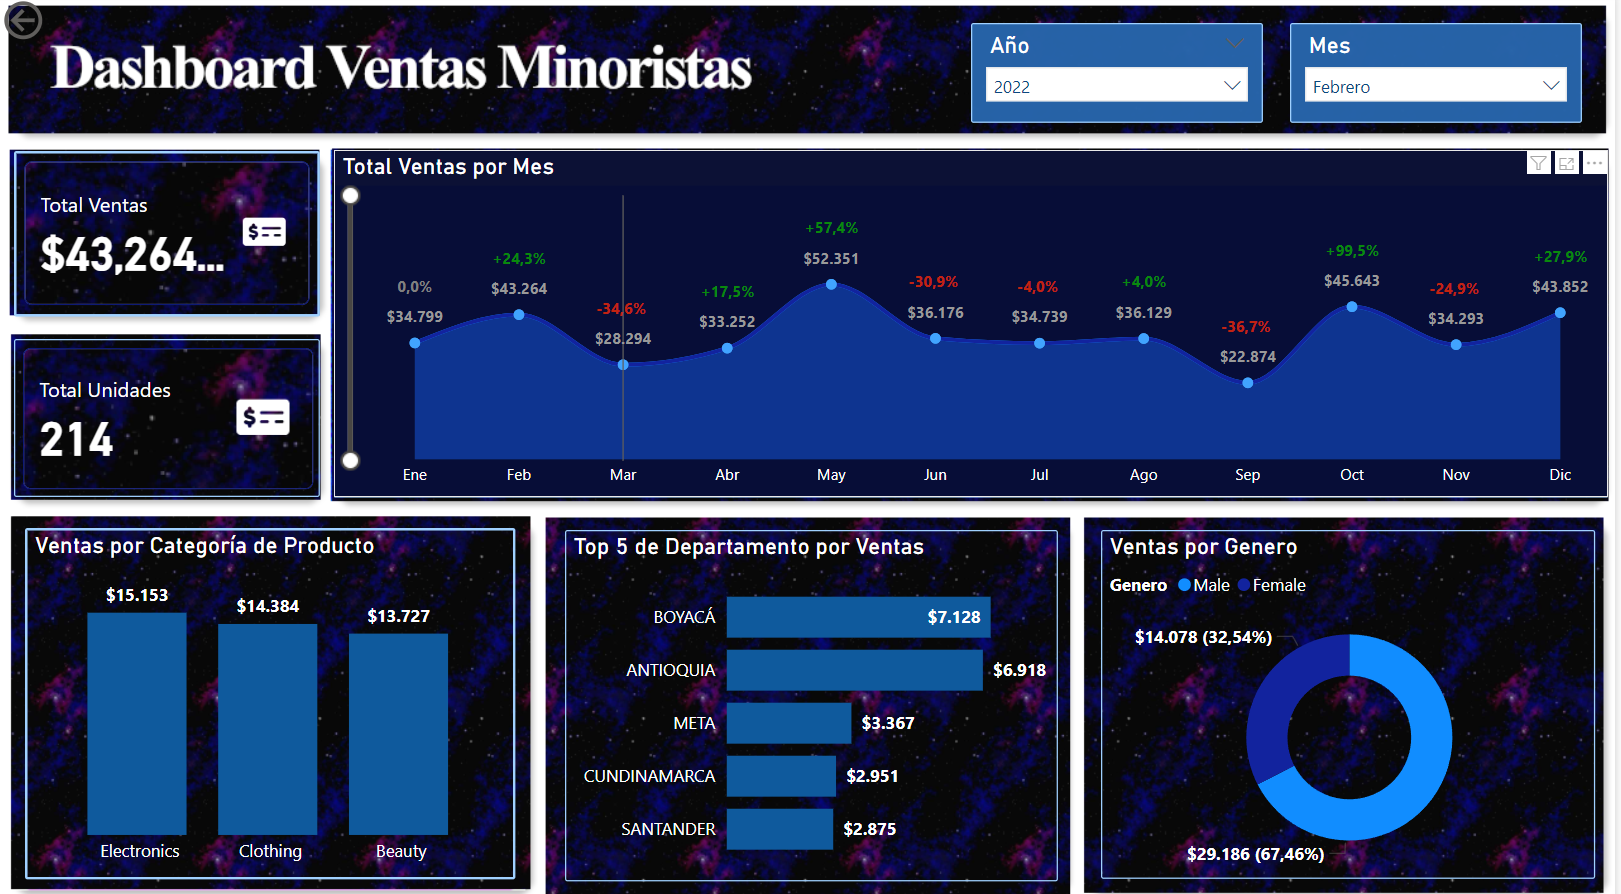

The page's visual inventory and layout, read from the dashboard file:
{"tool":"powerbi","page":{"name":"Página 1","canvas":[1280,720],"ordinal":0},"visuals":[{"type":"cardVisual","fields":{"Data":["Medidas.Total Ventas"]},"box":[12.3,123.1,242.3,130.8],"z":0},{"type":"clusteredBarChart","title":"Top 5 de Departamento por Ventas","fields":{"Category":["Clientes.Departamento"],"Y":["Medidas.Total Ventas"]},"box":[448.2,423.3,389.7,277.7],"z":1000},{"type":"cardVisual","fields":{"Data":["Medidas.Total Unidades"]},"box":[12.3,272.3,242.3,124.6],"z":2000},{"type":"slicer","fields":{"Values":["Calendario.Nombre del mes"]},"box":[1022.5,22.5,231.2,78.8],"z":3000},{"type":"areaChart","title":"Total Ventas por Mes","fields":{"Category":["Calendario.Mes Abreviado"],"Y":["Medidas.Total Ventas","Medidas.Total Ventas Rotulo"]},"box":[265.5,122.7,1008.2,274.5],"z":4000},{"type":"clusteredColumnChart","title":"Ventas por Categoría de Producto","fields":{"Category":["Ventas_Minoristas.Categoria Producto"],"Y":["Medidas.Total Ventas"]},"box":[21.2,422.1,388.5,277.7],"z":5000},{"type":"donutChart","title":"Ventas por Genero","fields":{"Category":["Ventas_Minoristas.Genero"],"Y":["Medidas.Total Ventas"]},"box":[872.8,423.3,391,276.4],"z":6000},{"type":"slicer","fields":{"Values":["Calendario.Año"]},"box":[770,22.5,231.2,78.8],"z":7000},{"type":"actionButton","box":[0,0,100,40],"z":8000}]}

Visuals, with their boxes in screenshot pixels (x1, y1, x2, y2), scaled from the page's 1280x720 canvas onto the 1621x894 screenshot:
cardVisual - Medidas.Total Ventas: l=16, t=153, r=322, b=315
"Top 5 de Departamento por Ventas" clusteredBarChart: l=568, t=526, r=1061, b=870
cardVisual - Medidas.Total Unidades: l=16, t=338, r=322, b=493
slicer - Calendario.Nombre del mes: l=1295, t=28, r=1588, b=126
"Total Ventas por Mes" areaChart: l=336, t=152, r=1613, b=493
"Ventas por Categoría de Producto" clusteredColumnChart: l=27, t=524, r=519, b=869
"Ventas por Genero" donutChart: l=1105, t=526, r=1600, b=869
slicer - Calendario.Año: l=975, t=28, r=1268, b=126
actionButton: l=0, t=0, r=127, b=50
